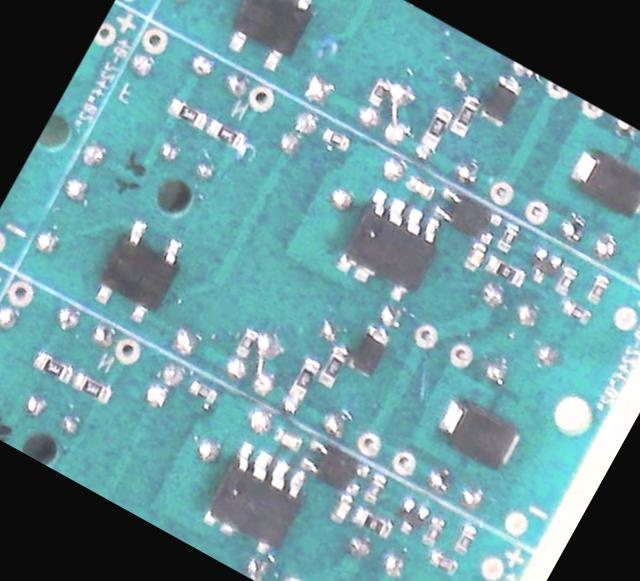chip-capacitor: (401, 170, 439, 202), (324, 489, 356, 526), (460, 237, 490, 272), (269, 423, 304, 453)
chip-resistor: (201, 114, 251, 155), (161, 92, 211, 133), (312, 340, 352, 390), (480, 250, 528, 290), (68, 367, 115, 407), (28, 347, 76, 386), (416, 103, 455, 151), (285, 353, 323, 402), (351, 504, 396, 540), (447, 94, 482, 136), (317, 122, 354, 154), (230, 324, 262, 361), (550, 261, 581, 299), (183, 375, 221, 406), (358, 470, 390, 506), (557, 296, 595, 326), (493, 218, 523, 255), (583, 272, 613, 308), (418, 513, 448, 549), (451, 522, 480, 557), (425, 547, 459, 576), (364, 77, 392, 108)
diode: (429, 388, 527, 475), (561, 138, 640, 223), (476, 71, 527, 131), (343, 320, 393, 380)
ic: (194, 435, 317, 561), (327, 183, 450, 308), (86, 211, 194, 331), (215, 0, 326, 79), (297, 434, 375, 500), (428, 183, 506, 248)
transistor: (387, 493, 433, 541), (521, 243, 565, 289)
